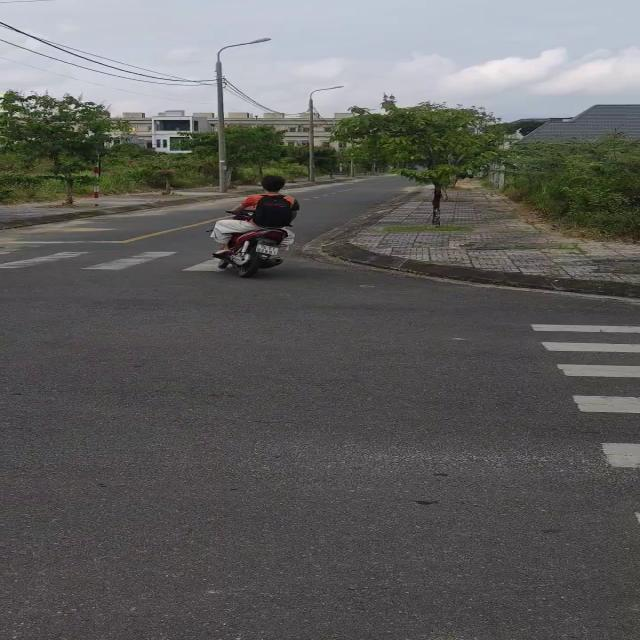no_helmet: (256, 171, 290, 201)
